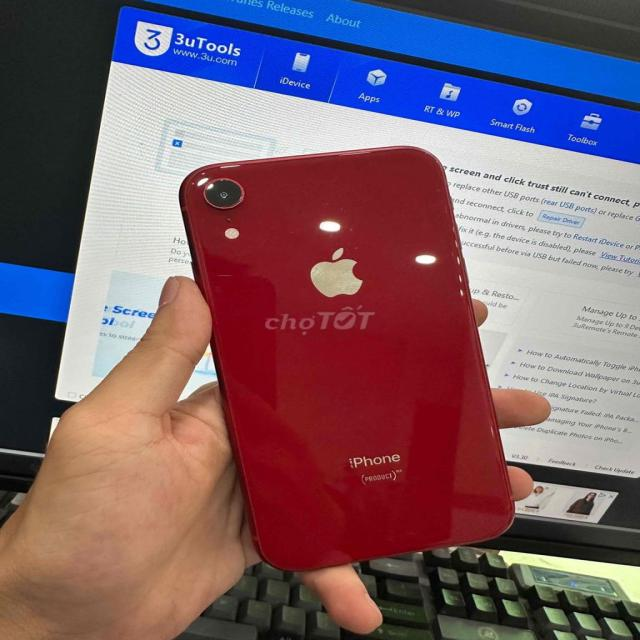scratch: (280, 194, 371, 266), (216, 176, 230, 186), (233, 192, 245, 202)
